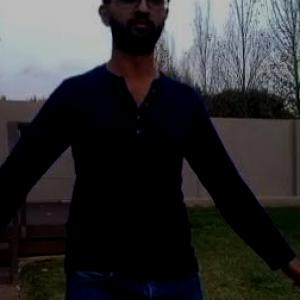land: (1, 0, 288, 299)
